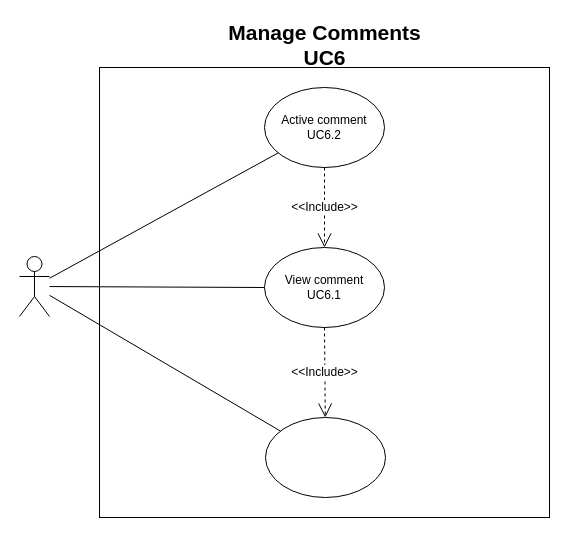
The diagram is 567 pixels wide and 535 high, and some of its shapes have lost their labels. The centre of each missing label's shape, as x and y in pixels:
Admin: the point at 34,286
Login UC1.1: the point at 325,457
